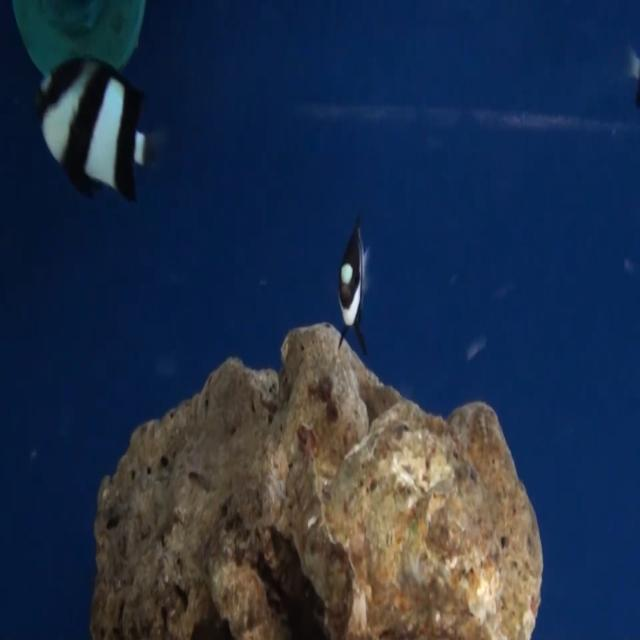ThreeStripedDamselfish: (38, 50, 150, 201), (336, 215, 368, 357)
